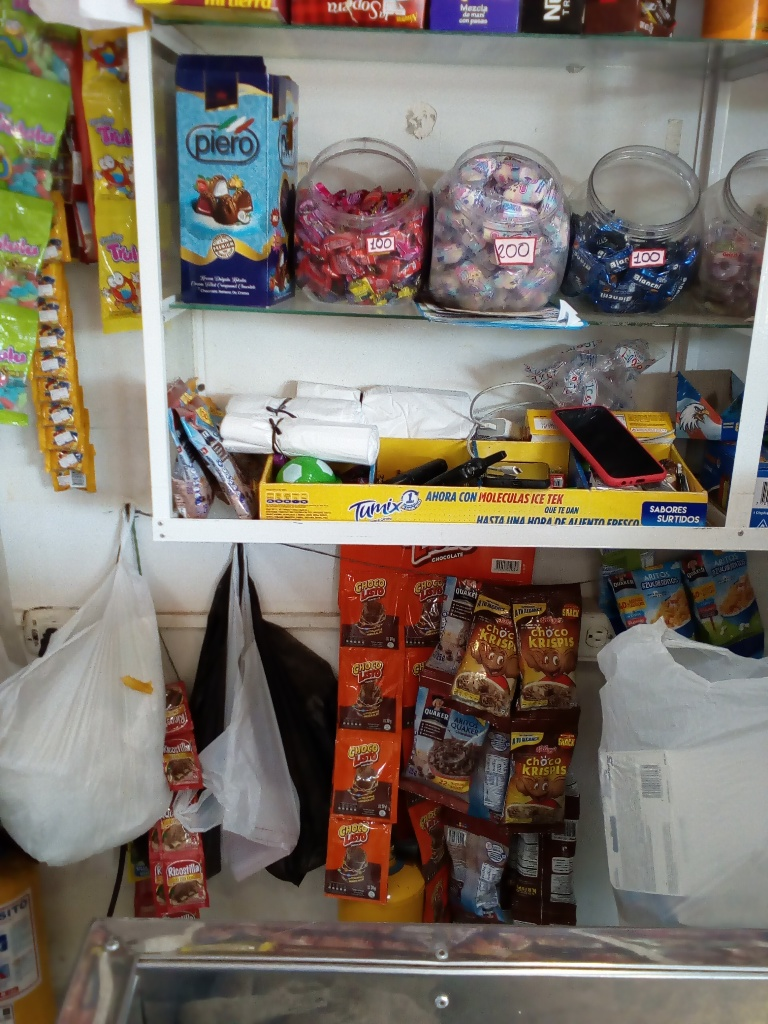COL0170103SOB02000: (328, 812, 394, 900)
